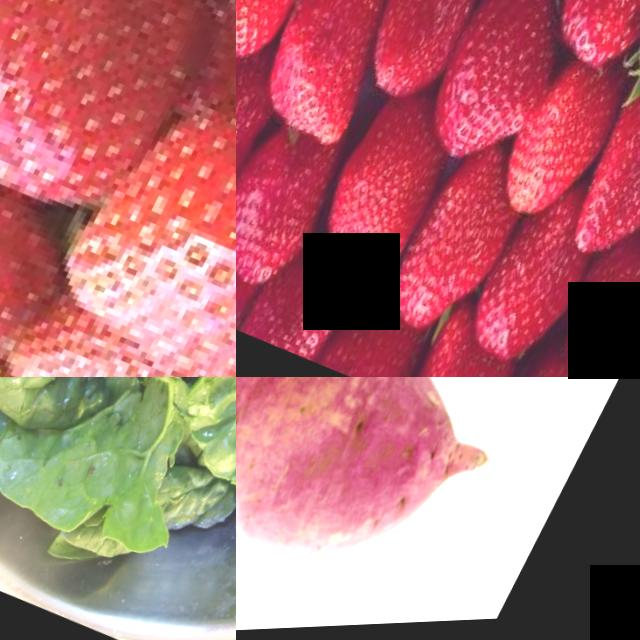strawberry: (0, 0, 180, 232), (94, 83, 236, 377), (382, 157, 525, 341), (423, 0, 578, 163), (315, 113, 461, 282), (499, 53, 632, 223), (245, 0, 397, 145), (463, 220, 602, 377), (236, 129, 350, 285), (4, 304, 236, 377), (360, 0, 499, 112), (565, 70, 640, 273), (0, 173, 74, 377), (236, 67, 279, 229), (236, 0, 318, 73)
sweet potato: (236, 377, 531, 634), (236, 377, 586, 443)
